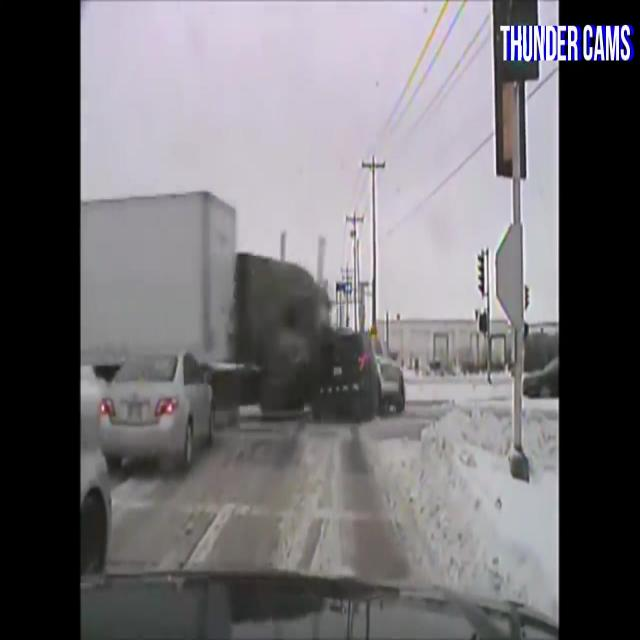accident: (290, 267, 405, 440)
